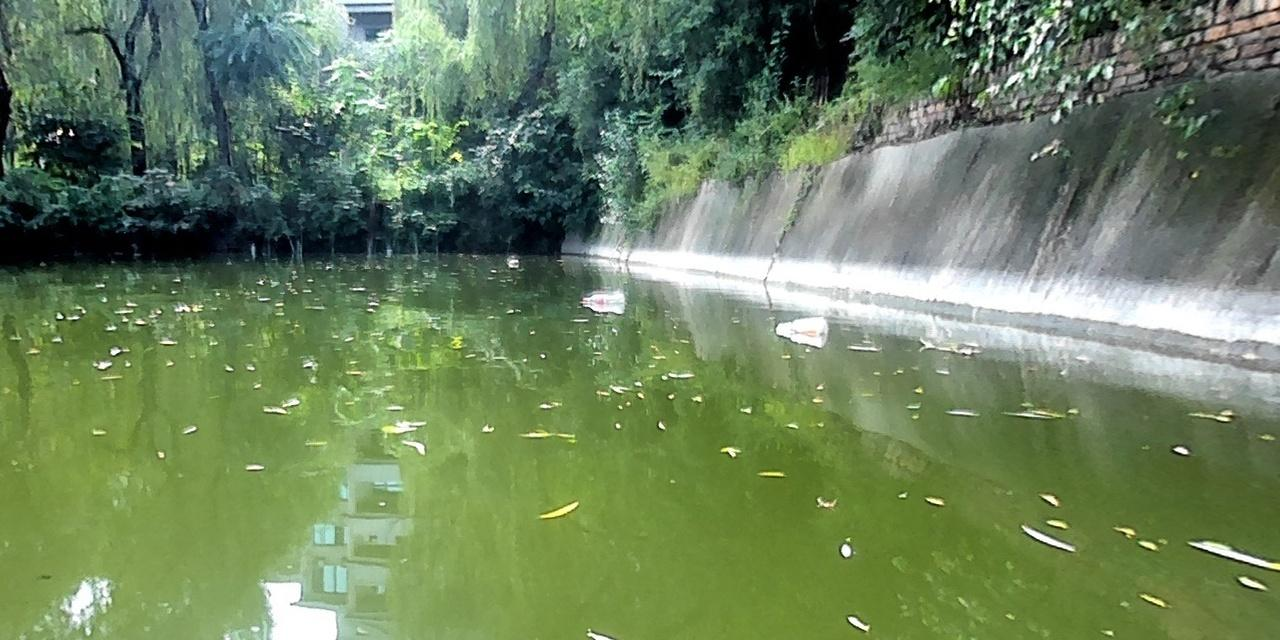bottle: (770, 312, 830, 338), (577, 288, 628, 304)
